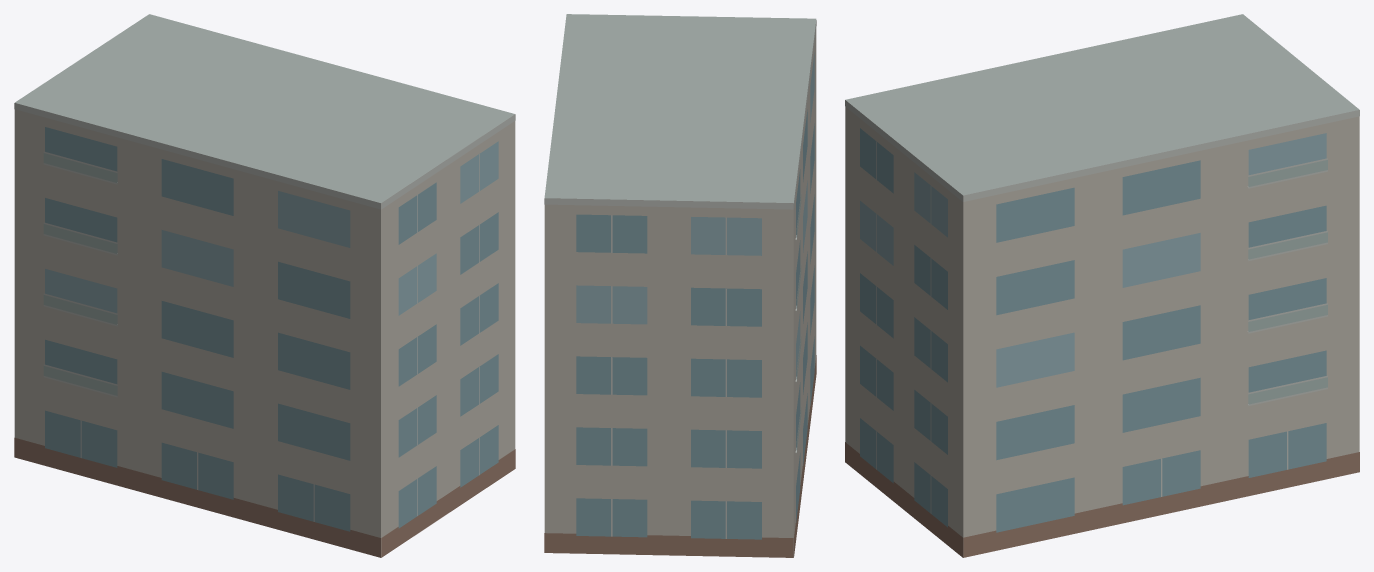
Rendered from survey-upis-32862243.glb.
The picture shows the model from 3 angles, left to right: view 1: azimuth 30°, elevation 25°; view 2: azimuth 150°, elevation 25°; view 3: azimuth 270°, elevation 25°; orthographic projection. The views are drawn at different scales.
Visible parts, largest first — view 1: survey-upis-32862243.tmp; view 2: survey-upis-32862243.tmp; view 3: survey-upis-32862243.tmp.
Boxes of the visible parts, x1,y1,x2,y2 form: survey-upis-32862243.tmp: (14, 14, 515, 557); survey-upis-32862243.tmp: (544, 14, 816, 557); survey-upis-32862243.tmp: (845, 14, 1359, 557).
Bounding box in the file's own units: 14.52 × 13.5 × 17.39.
